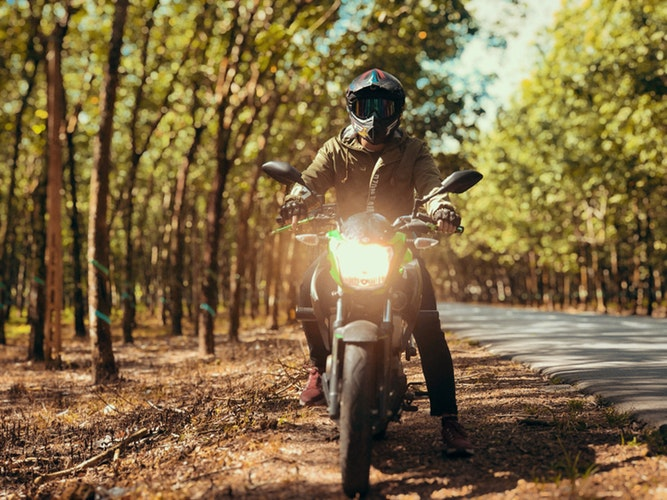helmet: (343, 68, 408, 146)
